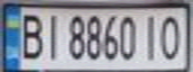0: (118, 11, 142, 62)
6: (103, 11, 121, 62)
8: (81, 11, 106, 61), (63, 11, 87, 61)
B: (15, 10, 45, 61)
I: (39, 10, 66, 61), (139, 11, 163, 62)
O: (157, 11, 187, 62)
